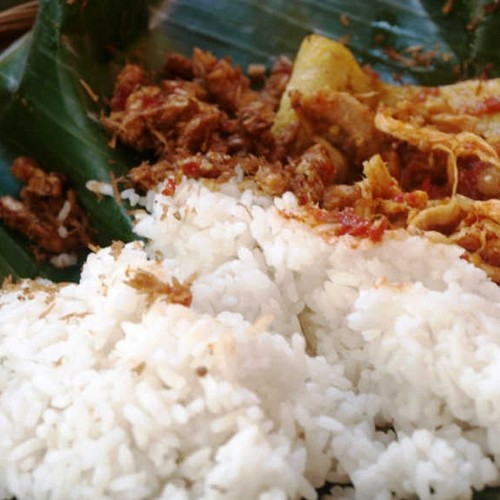nasi jinggo: (109, 48, 490, 495)
